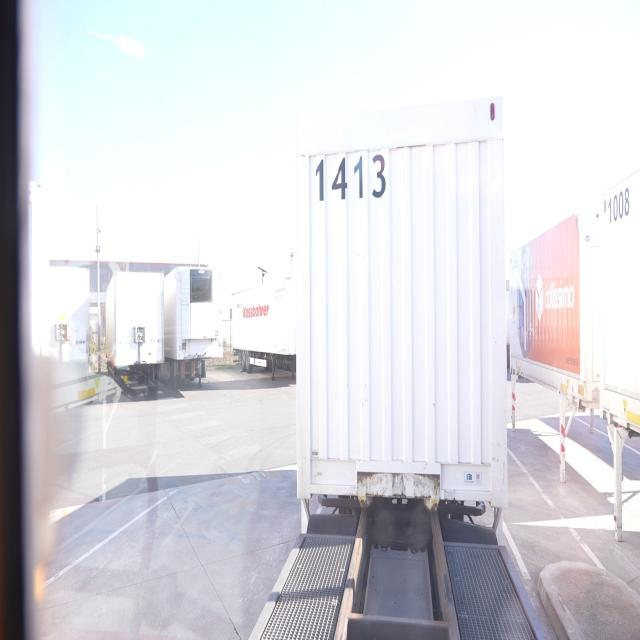Code: (314, 152, 386, 204)
